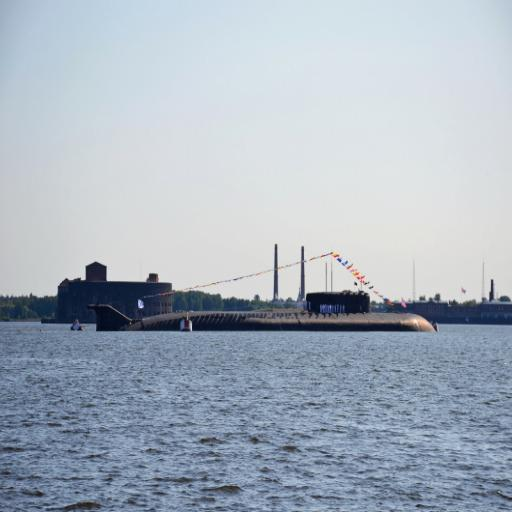submarine: (97, 293, 440, 330)
